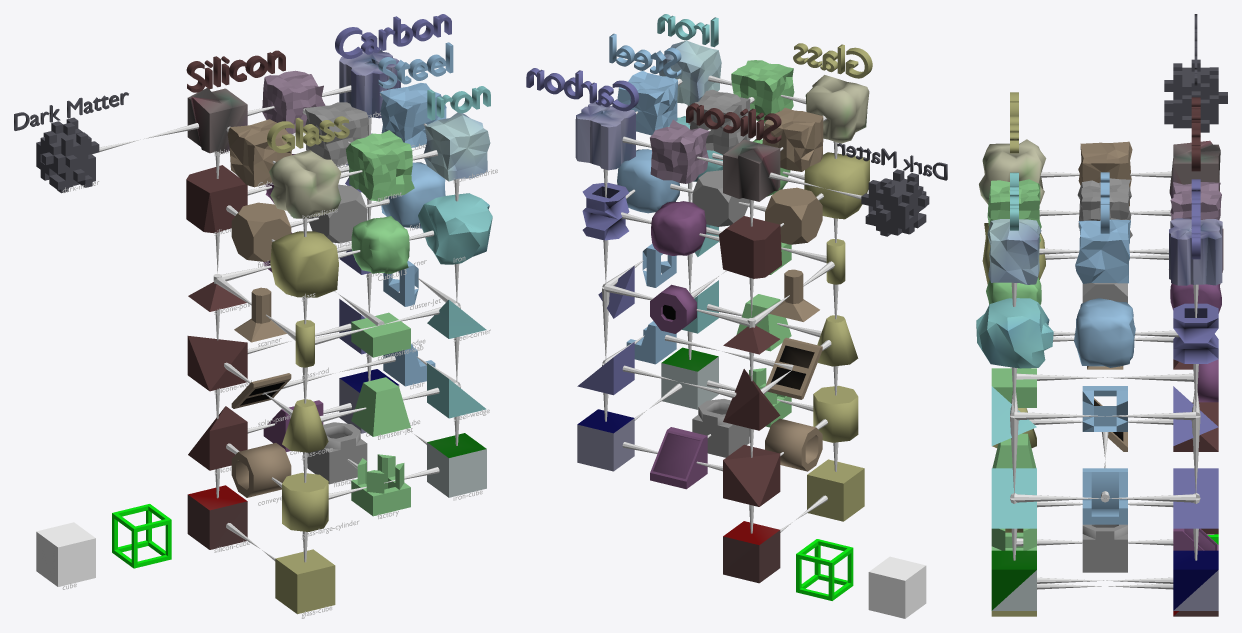
Rendered from crafting tree.glb.
3 views of the same model, side by side, from view 1: azimuth 30°, elevation 25°; view 2: azimuth 150°, elevation 25°; view 3: azimuth 270°, elevation 25° (orthographic). The views are drawn at different scales.
Visible parts, largest first — view 1: iron, glass, borosilicate, nutrient, iron-chondrite, dark-matter, glass-cube, cube, silicone, iron-cube, silicon-cube, lithium-silicate (+35 smaller); view 2: carbon-chondrite, dark-matter, silicone, glass, borosilicate, cube, silicon-lopped, silicon-cube, lithium-silicate, organics, carbon-fiber-cube, glass-cube (+36 smaller); view 3: iron, fuel, carbon-chondrite, Cube.001, iron-chondrite, dark-matter, carbon-fiber-cube, iron-cube, carbon-fiber, carbon-fiber-wedge, steel-wedge, chair (+33 smaller).
Boxes of the visible parts, left/top/right/bottom form: iron: left=418, top=193, right=492, bottom=264; glass: left=270, top=231, right=338, bottom=297; borosilicate: left=269, top=150, right=341, bottom=218; nutrient: left=346, top=130, right=414, bottom=201; iron-chondrite: left=424, top=112, right=490, bottom=181; dark-matter: left=36, top=117, right=99, bottom=193; glass-cube: left=275, top=549, right=335, bottom=614; cube: left=36, top=522, right=95, bottom=586; silicone: left=186, top=165, right=247, bottom=233; iron-cube: left=427, top=433, right=486, bottom=497; silicon-cube: left=187, top=485, right=247, bottom=549; lithium-silicate: left=187, top=88, right=247, bottom=153; carbon-chondrite: left=575, top=101, right=635, bottom=170; dark-matter: left=861, top=169, right=929, bottom=236; silicone: left=719, top=216, right=781, bottom=278; glass: left=804, top=152, right=869, bottom=219; borosilicate: left=805, top=75, right=869, bottom=143; cube: left=868, top=556, right=926, bottom=618; silicon-lopped: left=723, top=444, right=780, bottom=506; silicon-cube: left=723, top=521, right=780, bottom=583; lithium-silicate: left=723, top=139, right=780, bottom=201; organics: left=650, top=119, right=709, bottom=183; carbon-fiber-cube: left=577, top=409, right=634, bottom=471; glass-cube: left=807, top=459, right=864, bottom=521; iron: left=976, top=298, right=1053, bottom=368; fuel: left=1074, top=298, right=1135, bottom=367; carbon-chondrite: left=1169, top=218, right=1222, bottom=285; Cube.001: left=1075, top=219, right=1130, bottom=283; iron-chondrite: left=987, top=219, right=1041, bottom=284; dark-matter: left=1164, top=59, right=1227, bottom=132; carbon-fiber-cube: left=1173, top=550, right=1218, bottom=610; iron-cube: left=991, top=550, right=1036, bottom=610; carbon-fiber: left=1173, top=303, right=1218, bottom=363; carbon-fiber-wedge: left=1173, top=468, right=1218, bottom=528; steel-wedge: left=991, top=468, right=1036, bottom=528; chair: left=1082, top=468, right=1127, bottom=524.
Bounding box in the file's own units: 11.48 × 12.24 × 5.54.
